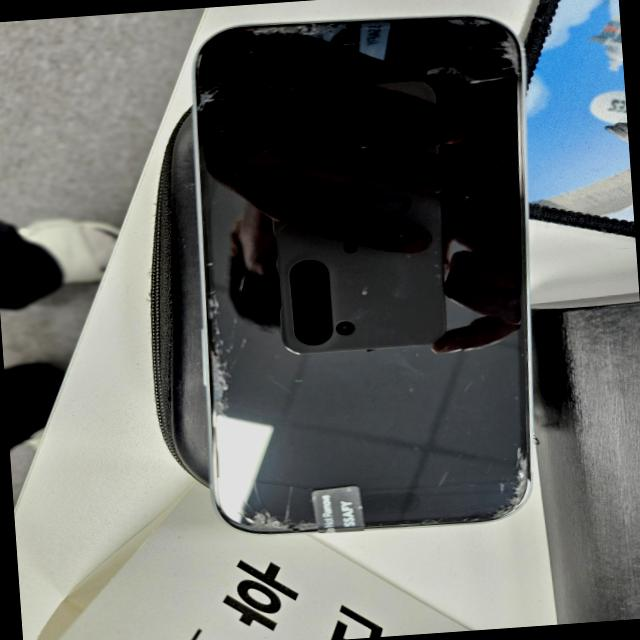phone: (175, 4, 556, 540)
sticker: (309, 482, 365, 536)
